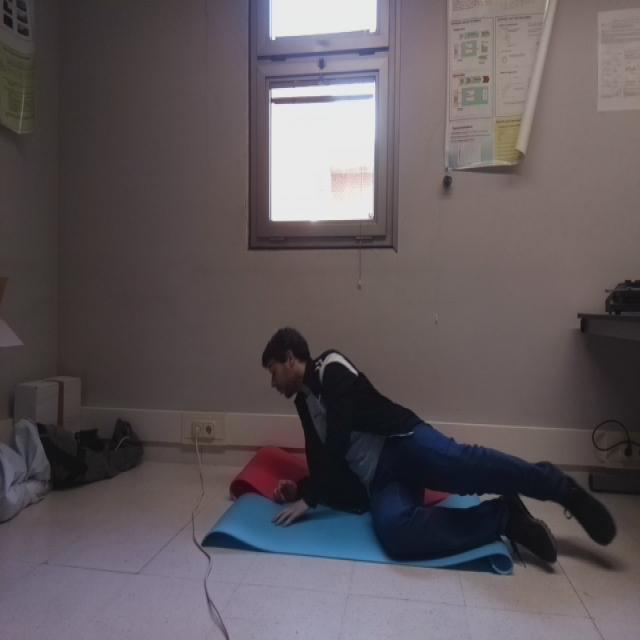fall detected: (236, 315, 620, 581)
